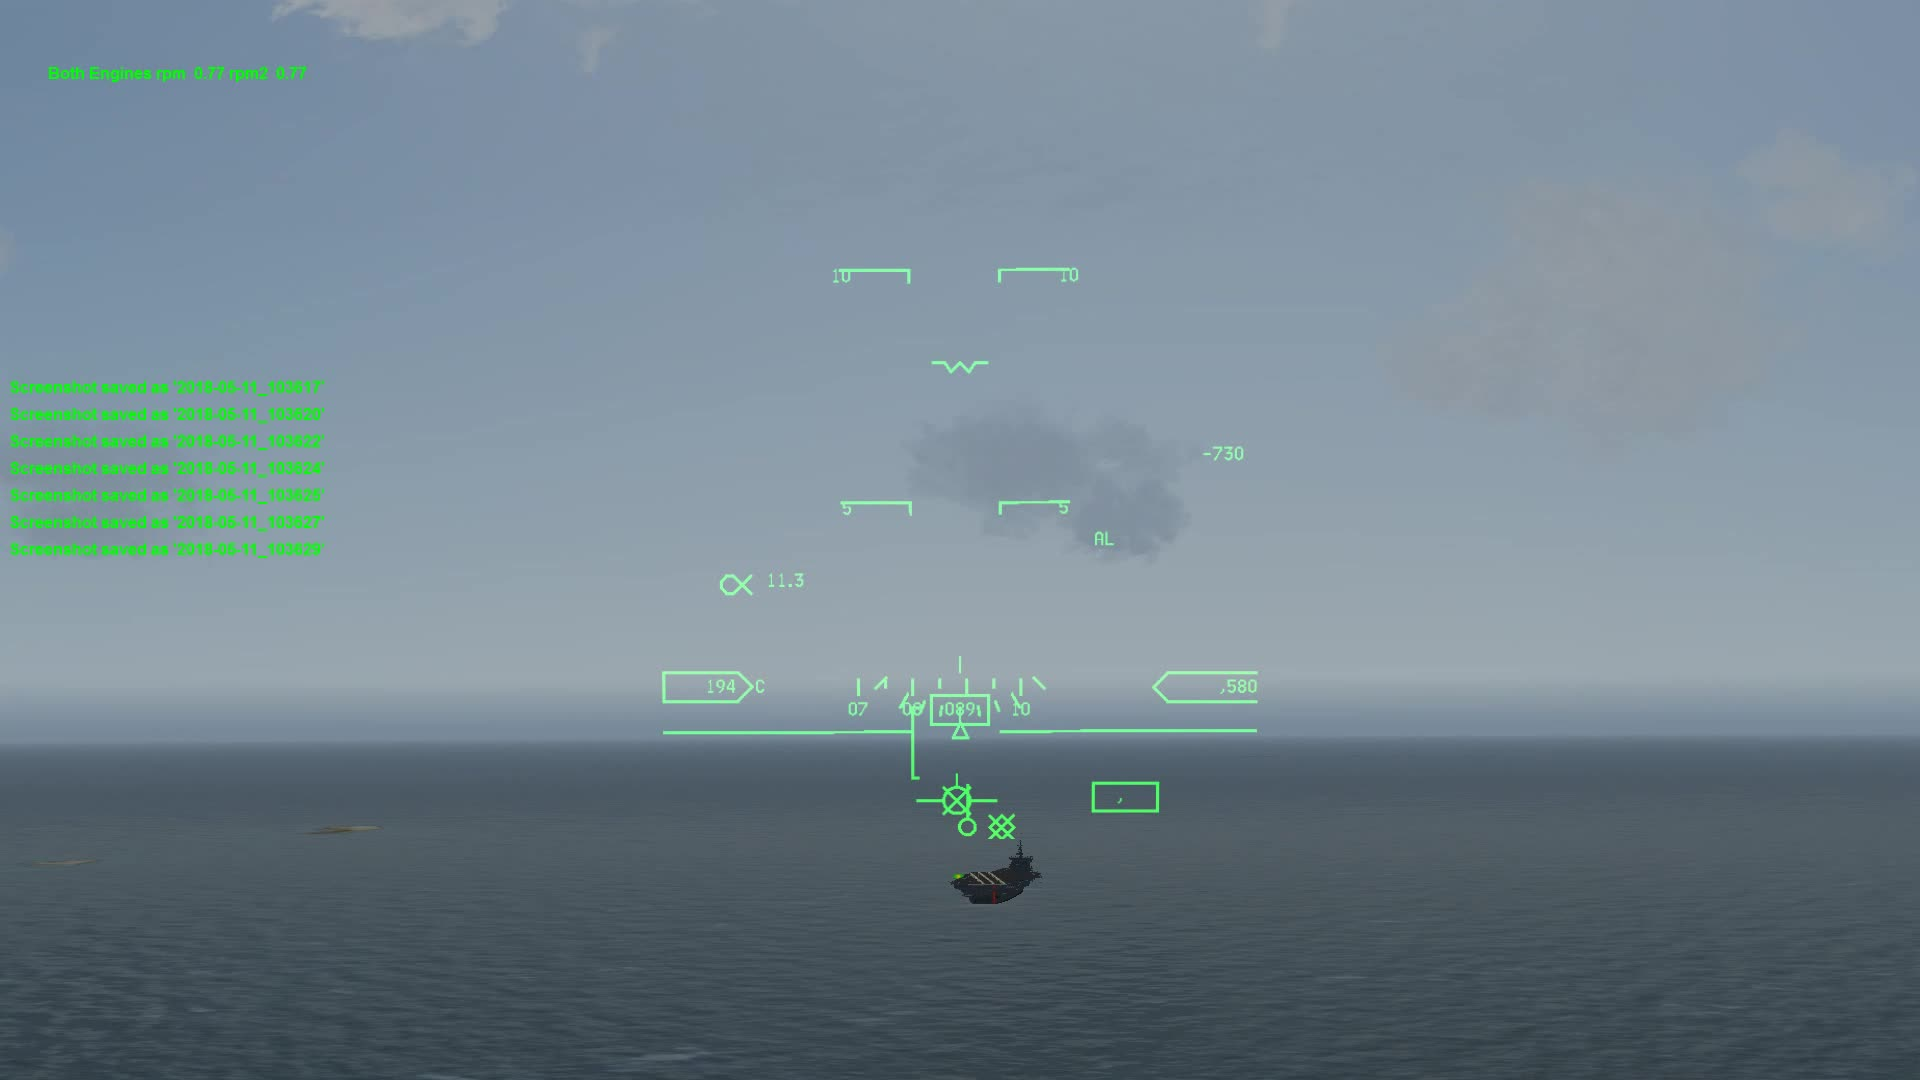speed vector: (919, 767, 1002, 820)
